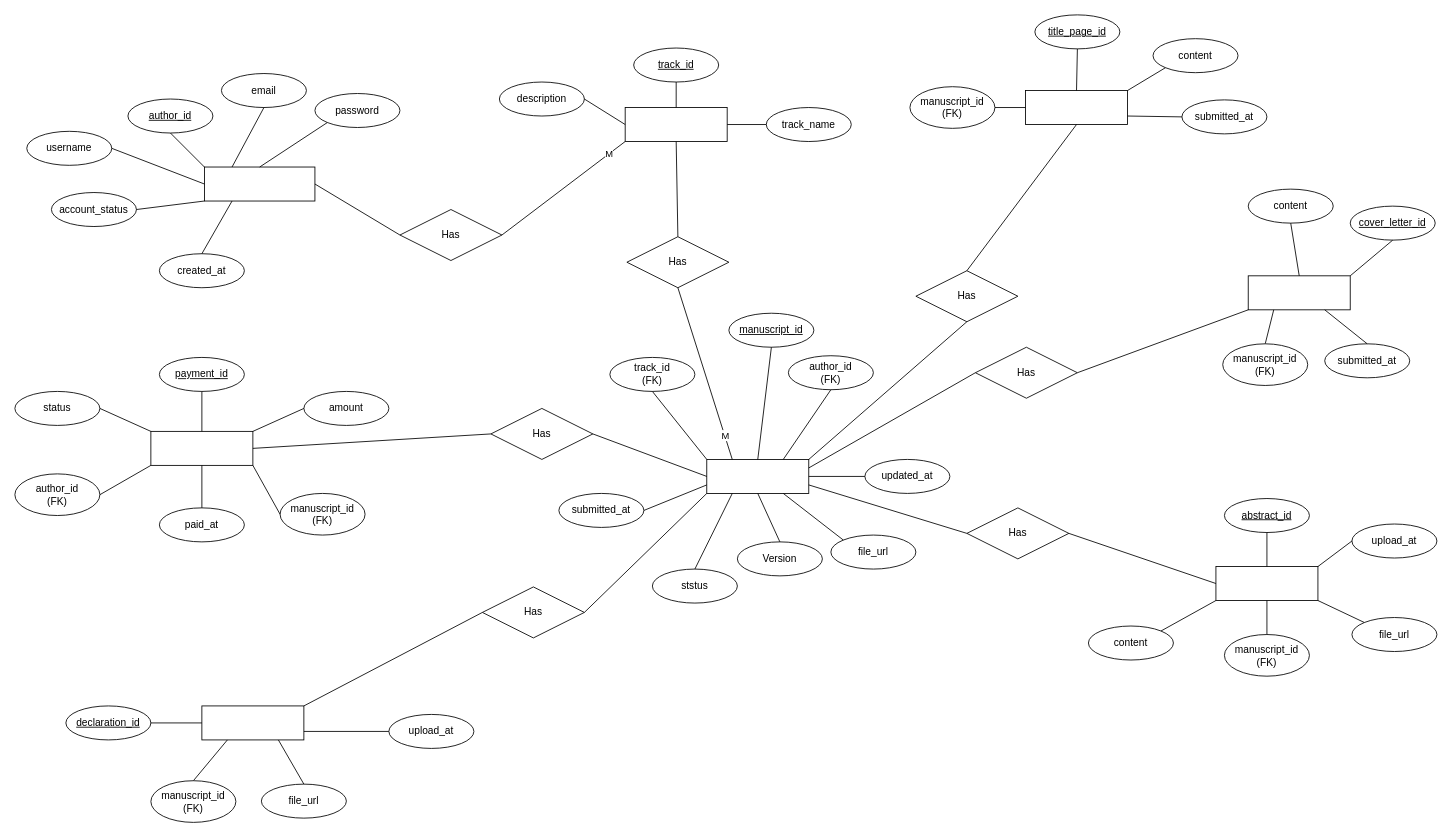
The diagram is 1452 pixels wide and 837 high, and some of its shapes have lost their labels. The shapes that lost their labels are listed below. From the top down, each one's centre as x and y in pixels, then its label:
At [675,124]: "Research Track".
At [1076,107]: "Title Page".
At [259,183]: "Corresponding Author".
At [1298,292]: "Cover Letter".
At [201,448]: "Payment".
At [757,476]: "Manuscript".
At [1266,583]: "Abstract".
At [252,722]: "Author Declaration".
